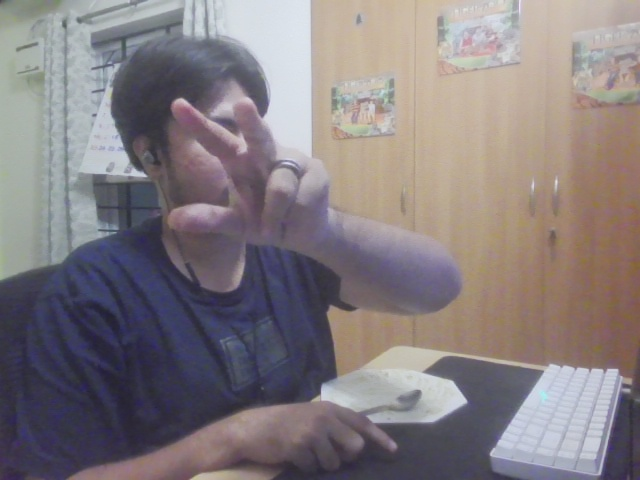no: (164, 92, 334, 265)
